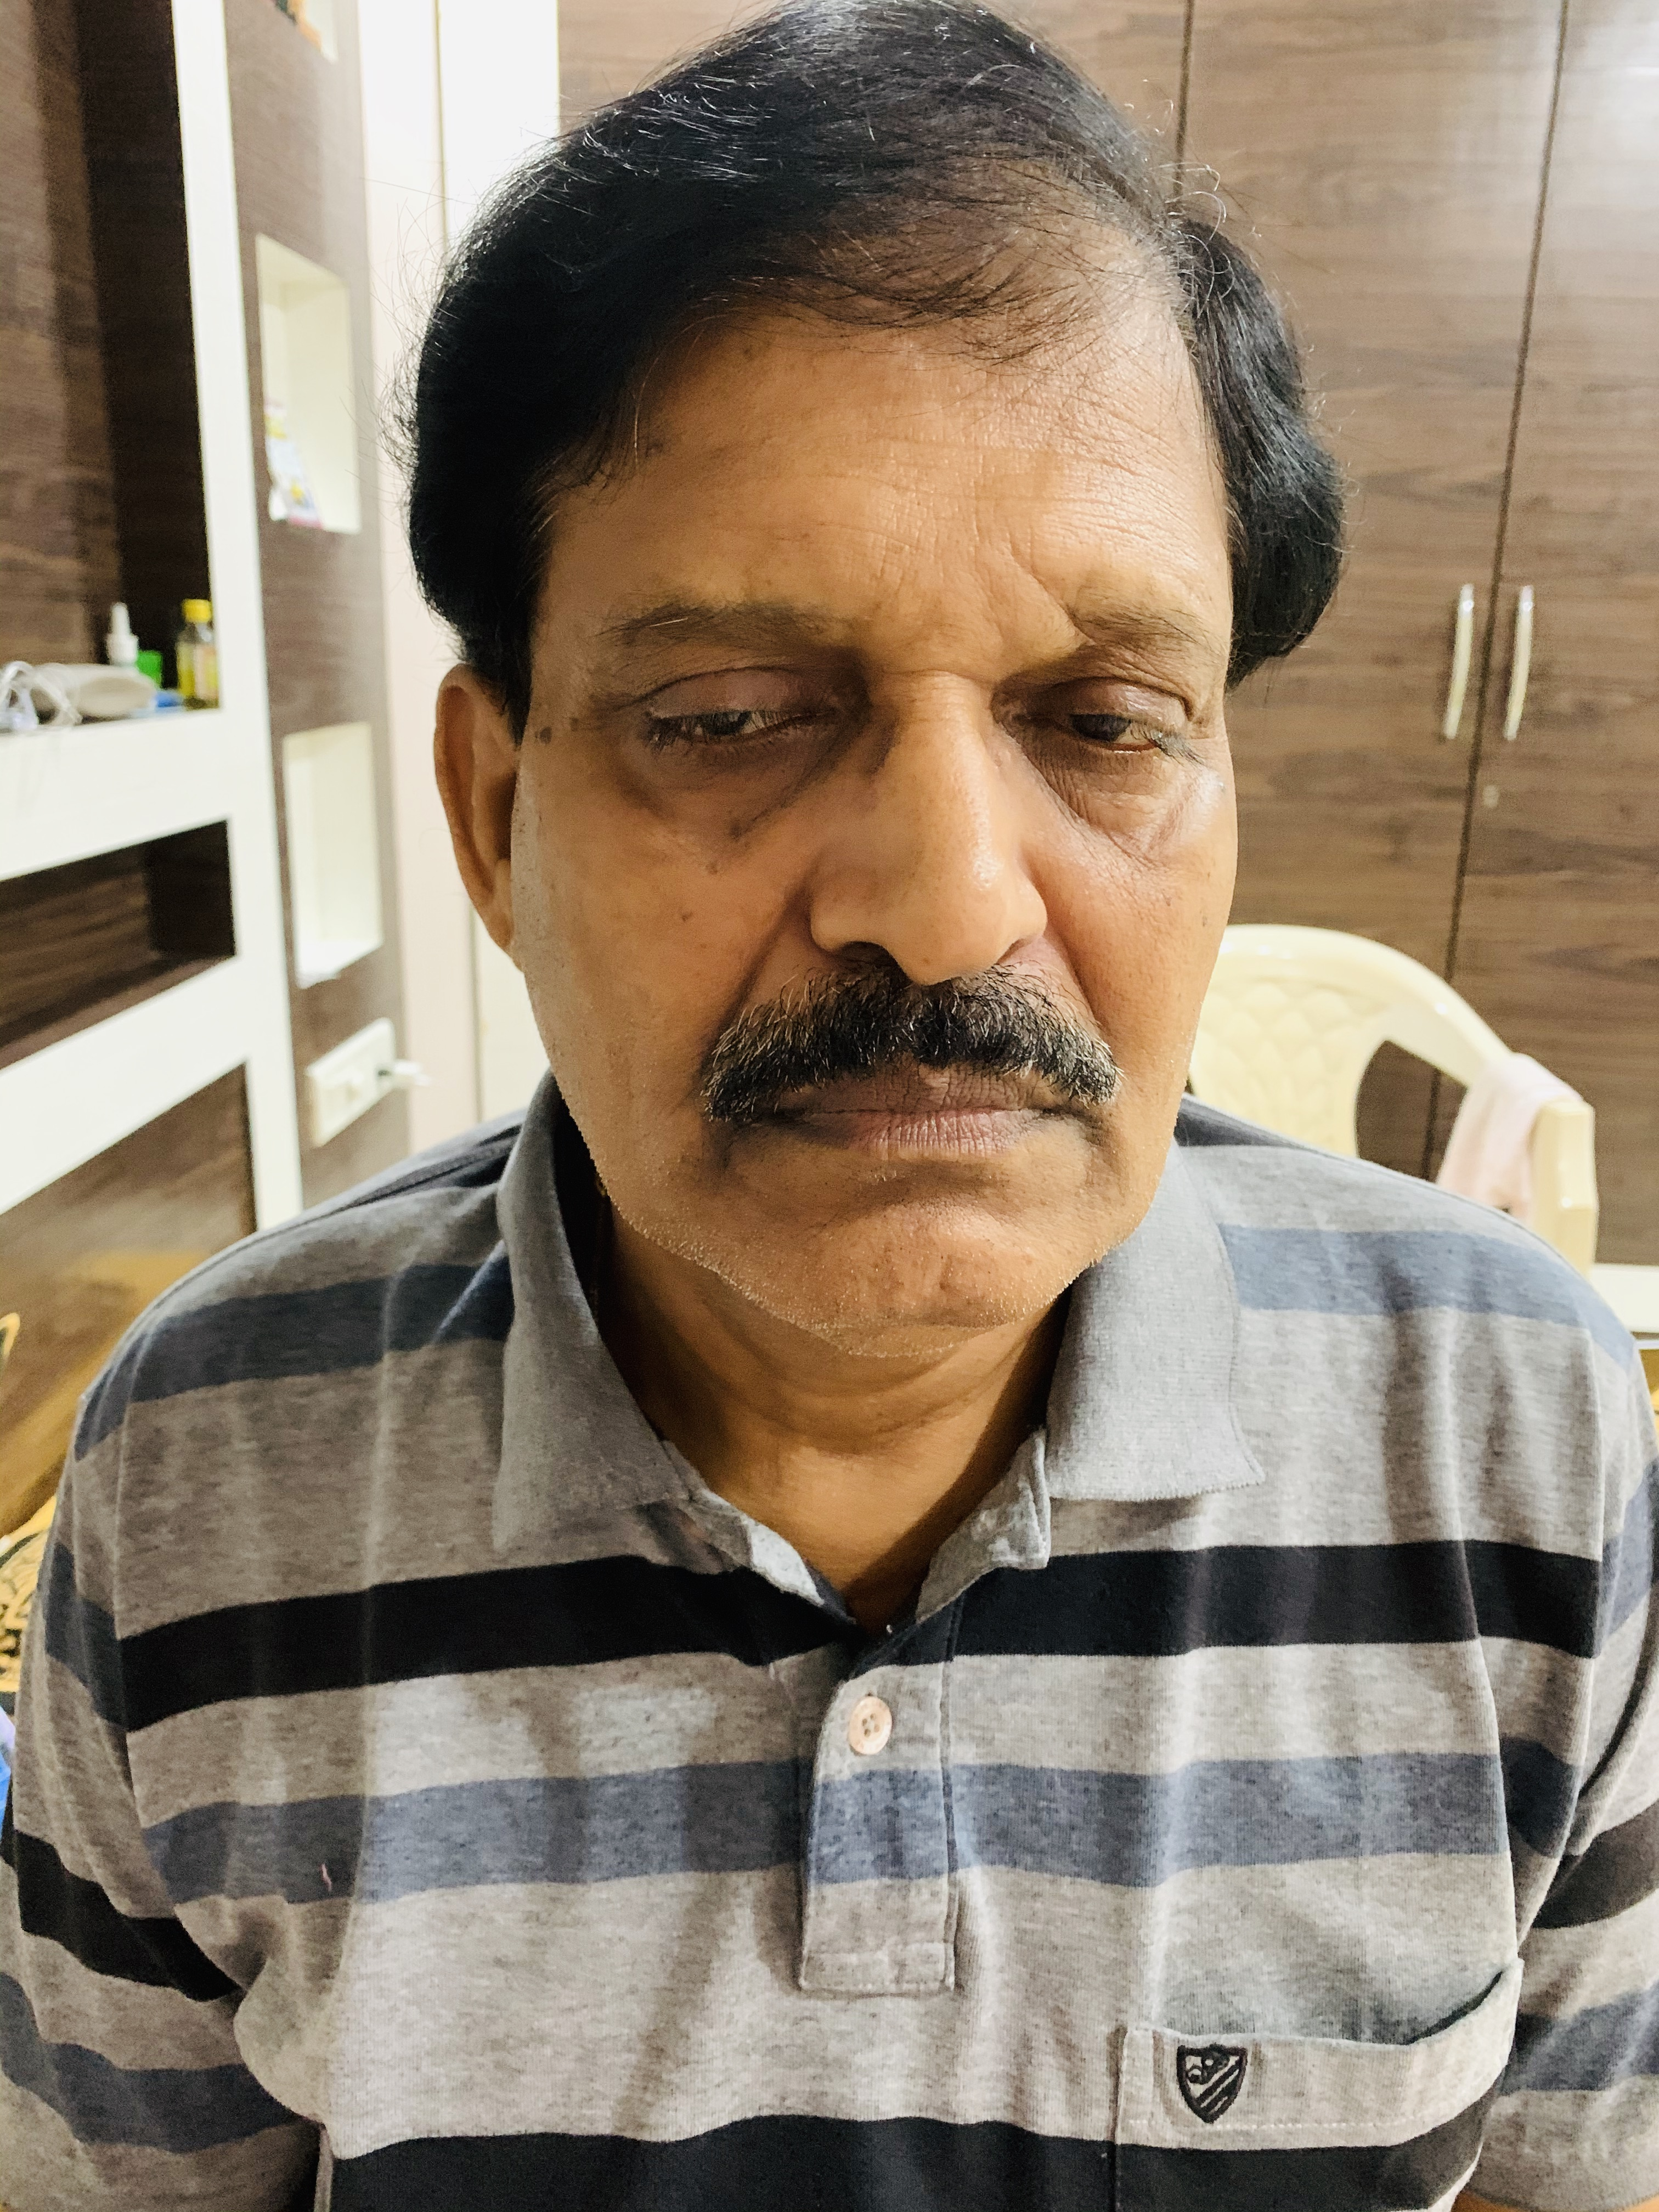Half Asleep: (579, 641, 1222, 810)
